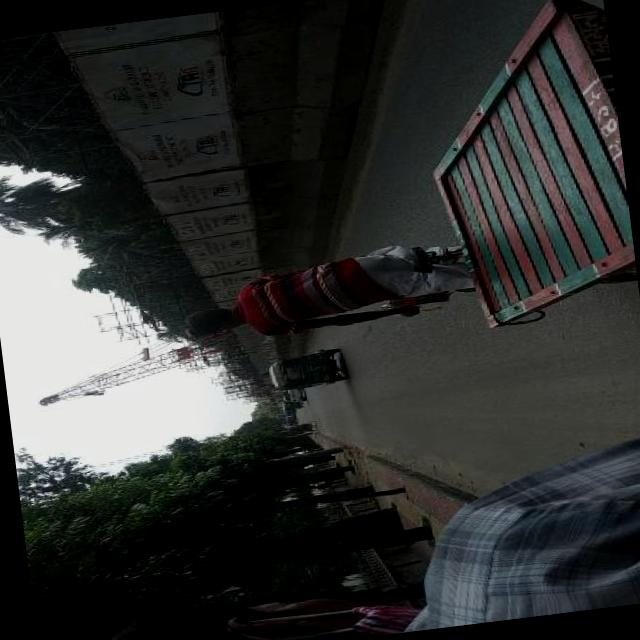car: (280, 388, 304, 403)
motorcycle: (266, 347, 348, 392), (284, 419, 316, 435), (282, 401, 304, 412)
